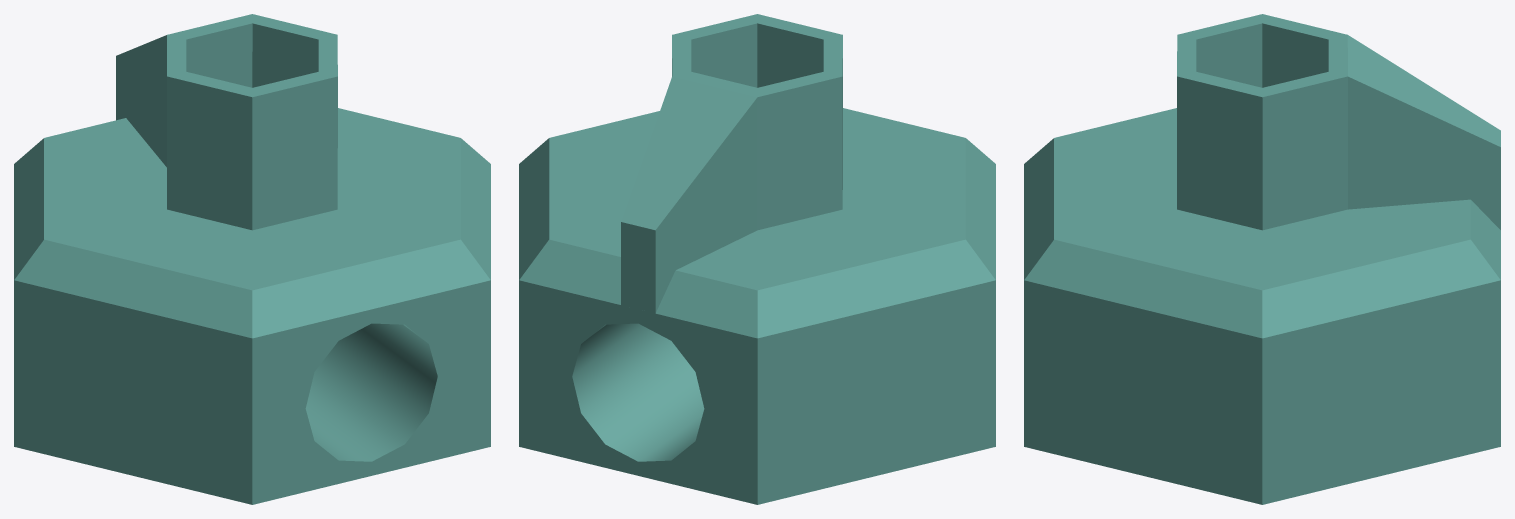
File: speedGate.glb
3 renders of one model, left to right at view 1: azimuth 30°, elevation 25°; view 2: azimuth 150°, elevation 25°; view 3: azimuth 270°, elevation 25°, orthographic.
Visible parts, largest first — view 1: speedGate-col; view 2: speedGate-col; view 3: speedGate-col.
Boxes of the visible parts, box(x1,y1,x2,y2) form: speedGate-col: box(14, 14, 490, 504); speedGate-col: box(519, 14, 995, 504); speedGate-col: box(1024, 14, 1500, 504).
Size of the model in its own units: 1.73 by 1.16 by 1.5.
